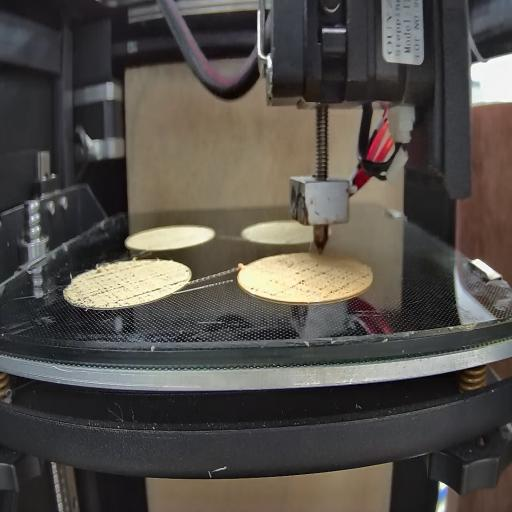under_extrusion: (282, 256, 372, 304), (68, 263, 162, 307), (247, 276, 275, 301), (171, 275, 189, 289)
